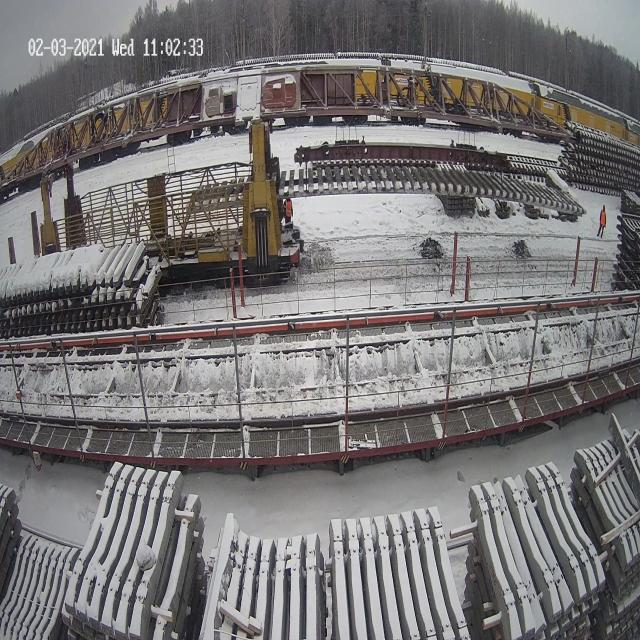Person: (280, 185, 301, 228), (596, 203, 606, 238)
